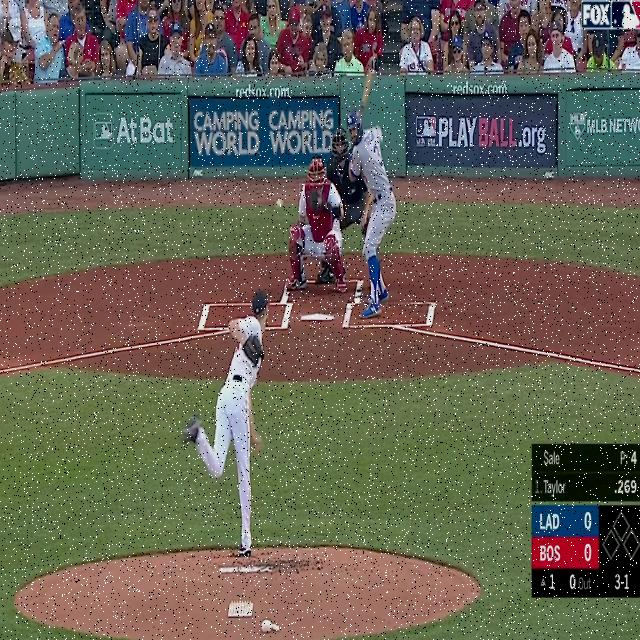baseball: (276, 198, 284, 210)
